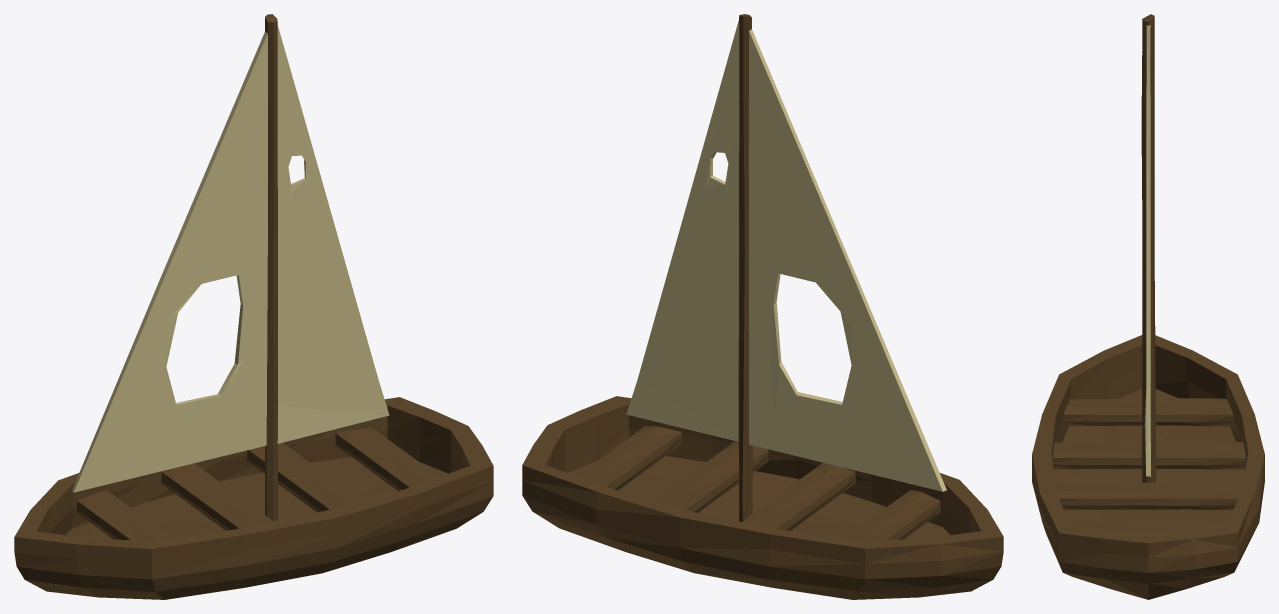
Rendered from Segelboot.fbx.
3 views of the same model, side by side, from view 1: azimuth 30°, elevation 25°; view 2: azimuth 150°, elevation 25°; view 3: azimuth 270°, elevation 25° (orthographic). The views are drawn at different scales.
Parts seen in each view (by area): view 1: Stiel, Boot, Sitz_I, Sitz_I_2, Sitz_I_1, Sitz_I_2_2; view 2: Stiel, Boot, Sitz_I, Sitz_I_2, Sitz_I_1, Sitz_I_2_2; view 3: Boot, Stiel, Sitz_I_1, Sitz_I, Sitz_I_2_2, Sitz_I_2.
Part boxes in pixels (<box>): Stiel: <box>72,14,389,521</box>; Boot: <box>14,397,493,599</box>; Sitz_I: <box>161,463,273,530</box>; Sitz_I_2: <box>335,428,438,490</box>; Sitz_I_1: <box>247,442,361,512</box>; Sitz_I_2_2: <box>76,490,172,541</box>; Stiel: <box>626,14,946,521</box>; Boot: <box>522,396,1003,599</box>; Sitz_I: <box>742,463,855,552</box>; Sitz_I_2: <box>577,426,681,490</box>; Sitz_I_1: <box>654,441,768,512</box>; Sitz_I_2_2: <box>843,490,940,541</box>; Boot: <box>1032,335,1264,599</box>; Stiel: <box>1141,14,1156,482</box>; Sitz_I_1: <box>1054,482,1242,509</box>; Sitz_I: <box>1052,441,1245,469</box>; Sitz_I_2_2: <box>1063,398,1234,426</box>; Sitz_I_2: <box>1068,520,1228,534</box>.
Bounding box in the file's own units: 1517 × 1693 × 705.
